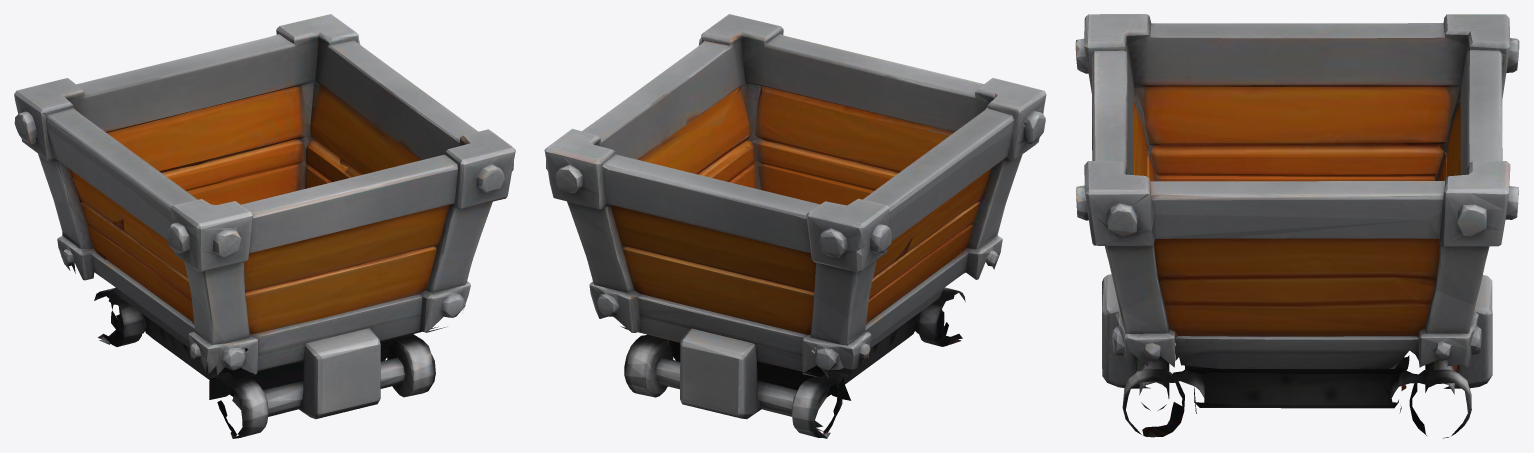
Rendered from cs_v_carrello_miniera.glb.
3 views of the same model, side by side, from view 1: azimuth 30°, elevation 25°; view 2: azimuth 150°, elevation 25°; view 3: azimuth 270°, elevation 25° (orthographic). The views are drawn at different scales.
Parts seen in each view (by area): view 1: v_carrello_miniera; view 2: v_carrello_miniera; view 3: v_carrello_miniera.
Boxes of the visible parts, box(x1,y1,x2,y2) form: v_carrello_miniera: box(14, 14, 515, 438); v_carrello_miniera: box(544, 14, 1046, 438); v_carrello_miniera: box(1075, 14, 1519, 438).
Size of the model in its own units: 2.1 by 1.49 by 2.1.
Materials: 1 (1 with a texture image).
